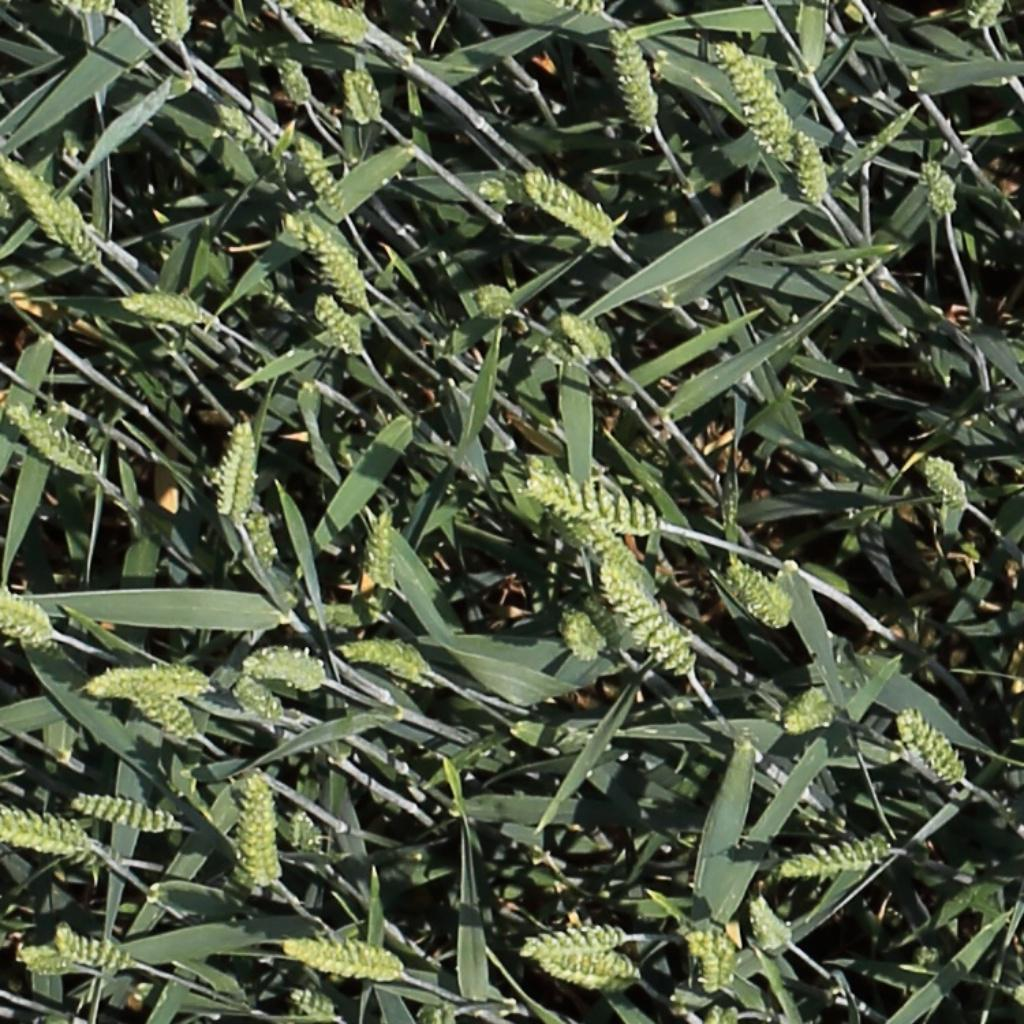0-0: (515, 483, 667, 601), (600, 563, 699, 675), (0, 146, 98, 258), (715, 36, 798, 165), (290, 211, 372, 311), (70, 652, 210, 703), (537, 165, 627, 237), (214, 98, 294, 178), (529, 479, 655, 529), (8, 405, 96, 475), (610, 23, 660, 136), (897, 708, 968, 787), (208, 417, 256, 523), (293, 131, 350, 217), (0, 800, 88, 854), (237, 769, 275, 892), (729, 558, 793, 630), (285, 940, 402, 978), (311, 288, 368, 359), (529, 947, 636, 984), (73, 795, 176, 832), (774, 843, 887, 876), (131, 686, 197, 742), (777, 679, 834, 741), (535, 918, 635, 953), (241, 644, 324, 685), (53, 928, 135, 969), (286, 0, 368, 40), (746, 890, 797, 954), (921, 451, 972, 512), (918, 150, 959, 222), (243, 503, 281, 578), (797, 125, 830, 211), (344, 645, 430, 678), (341, 60, 382, 129), (558, 309, 615, 357), (562, 606, 606, 667), (223, 668, 276, 718), (273, 50, 316, 110), (0, 595, 51, 644), (122, 294, 208, 323), (370, 505, 397, 596), (478, 168, 522, 222), (680, 921, 728, 962), (289, 804, 323, 861), (286, 988, 338, 1021), (473, 279, 513, 319), (706, 938, 729, 1001), (161, 1, 192, 47), (693, 1001, 755, 1024), (408, 999, 465, 1024), (17, 950, 76, 972), (969, 0, 1004, 34), (61, 0, 117, 16)
